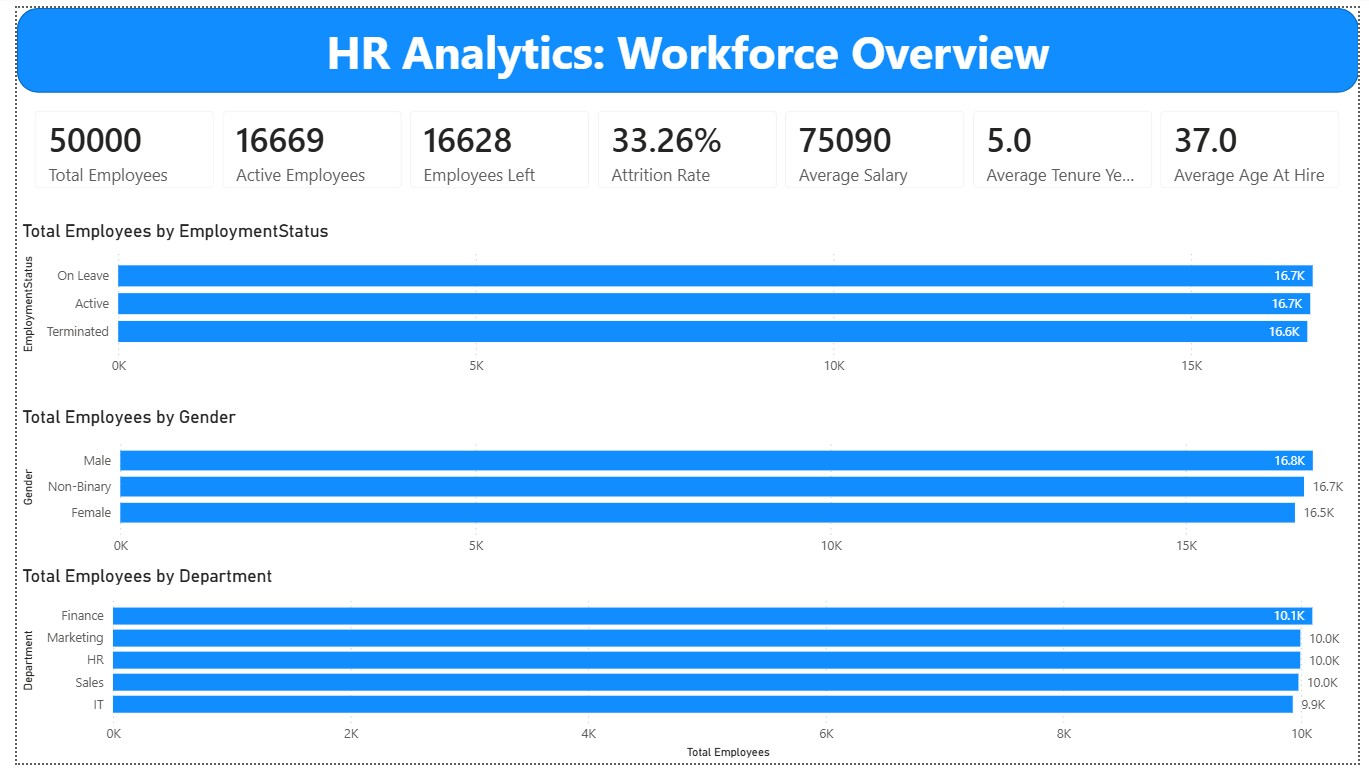

The dashboard page shown, as its layout file describes it:
{"tool":"powerbi","page":{"name":"01_Workforce_Overview","canvas":[1280,720],"ordinal":0},"visuals":[{"type":"shape","box":[0,0,1280.3,80.8],"z":0},{"type":"cardVisual","fields":{"Data":["hr.Total Employees","hr.Active Employees","hr.Employees Left","hr.Attrition Rate","hr.Average Salary","hr.Average Tenure Years","hr.Average Age At Hire"]},"box":[0,80.8,1280.3,108.3],"z":1000},{"type":"clusteredBarChart","fields":{"Category":["hr.Department"],"Y":["hr.Total Employees"]},"box":[0,531.8,1280.3,189.1],"z":2000},{"type":"clusteredBarChart","fields":{"Y":["hr.Total Employees"],"Category":["hr.Gender"]},"box":[0,380.2,1280.3,151.7],"z":3000},{"type":"clusteredBarChart","fields":{"Y":["hr.Total Employees"],"Category":["hr.EmploymentStatus"]},"box":[0,202.9,1280.3,157.6],"z":4000}]}

Visuals, with their boxes in screenshot pixels (x1, y1, x2, y2), scaled from the page's 1280x720 canvas onto the 1369x773 screenshot:
shape: [left=0, top=0, right=1368, bottom=87]
cardVisual - hr.Total Employees x hr.Active Employees: [left=0, top=87, right=1368, bottom=203]
clusteredBarChart - hr.Department x hr.Total Employees: [left=0, top=571, right=1368, bottom=772]
clusteredBarChart - hr.Total Employees x hr.Gender: [left=0, top=408, right=1368, bottom=571]
clusteredBarChart - hr.Total Employees x hr.EmploymentStatus: [left=0, top=218, right=1368, bottom=387]
